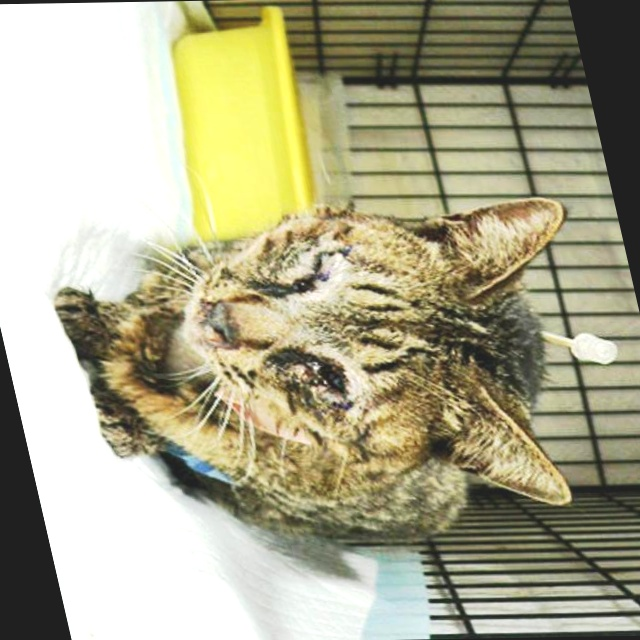eye_infection: (300, 361, 354, 400)
